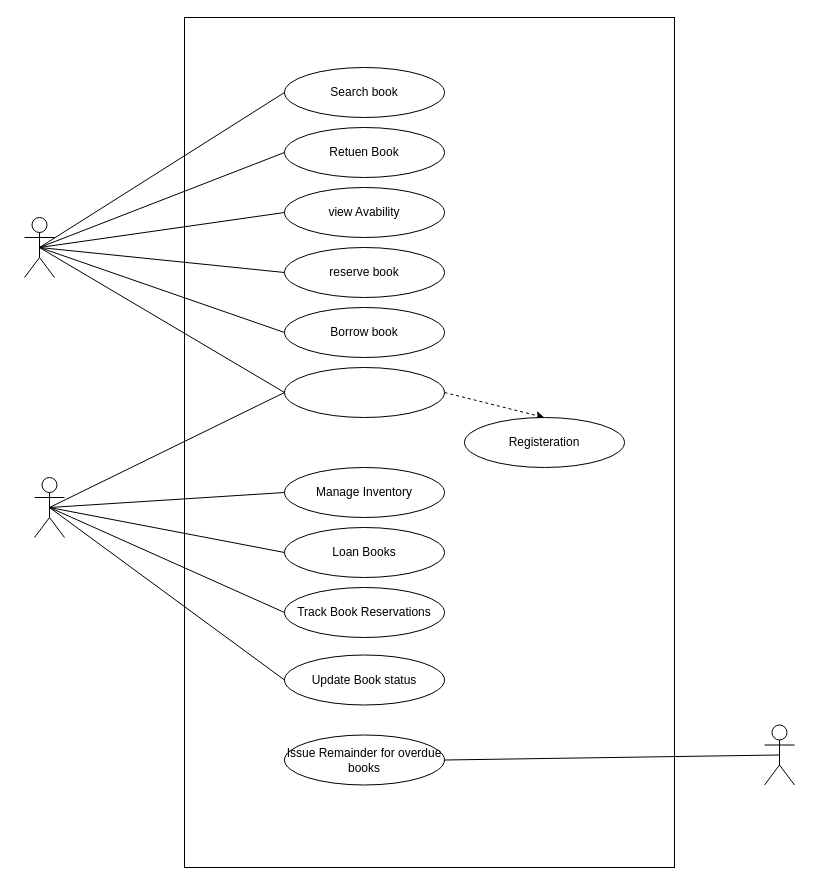
The diagram is 813 pixels wide and 885 high, and some of its shapes have lost their labels. The box of each missing label's shape, as (x1, y1, x2, y2) in pixels:
Admin: (764, 724, 794, 785)
Library Staff: (34, 476, 64, 538)
Login: (284, 366, 444, 418)
Student: (24, 216, 54, 278)
